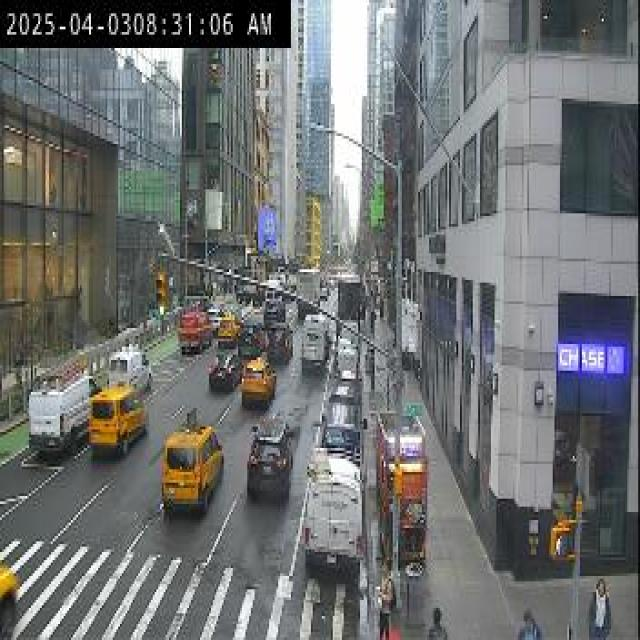open parking: (318, 284, 425, 612)
